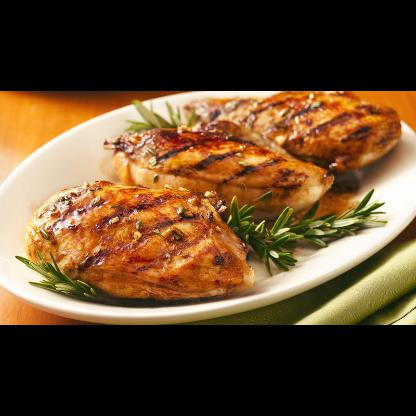grilled chicken breast: (24, 180, 254, 300), (104, 126, 334, 222), (180, 91, 402, 173)
